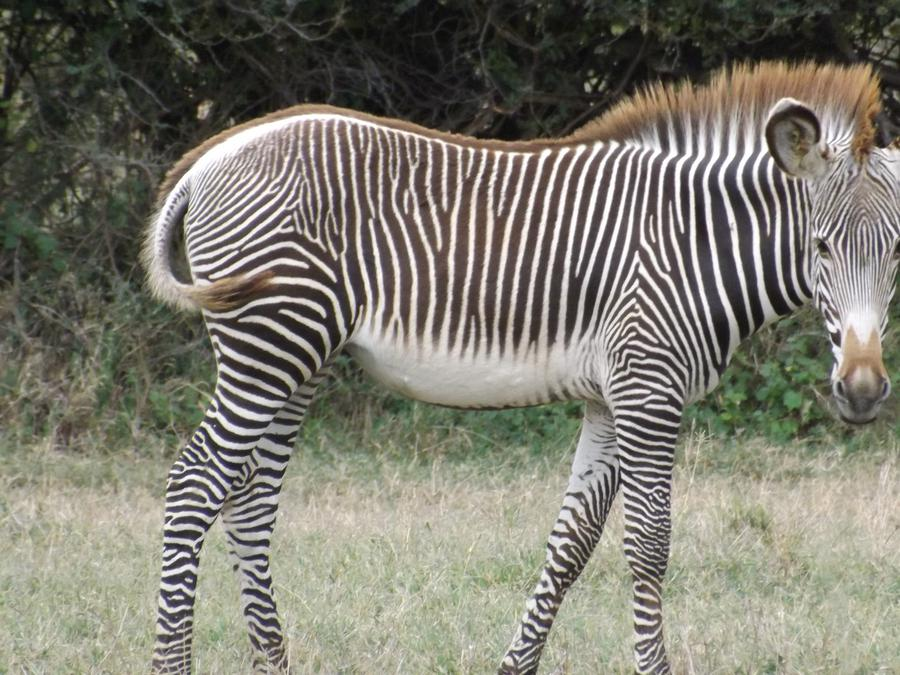zebra_grevys: (178, 92, 701, 428)
